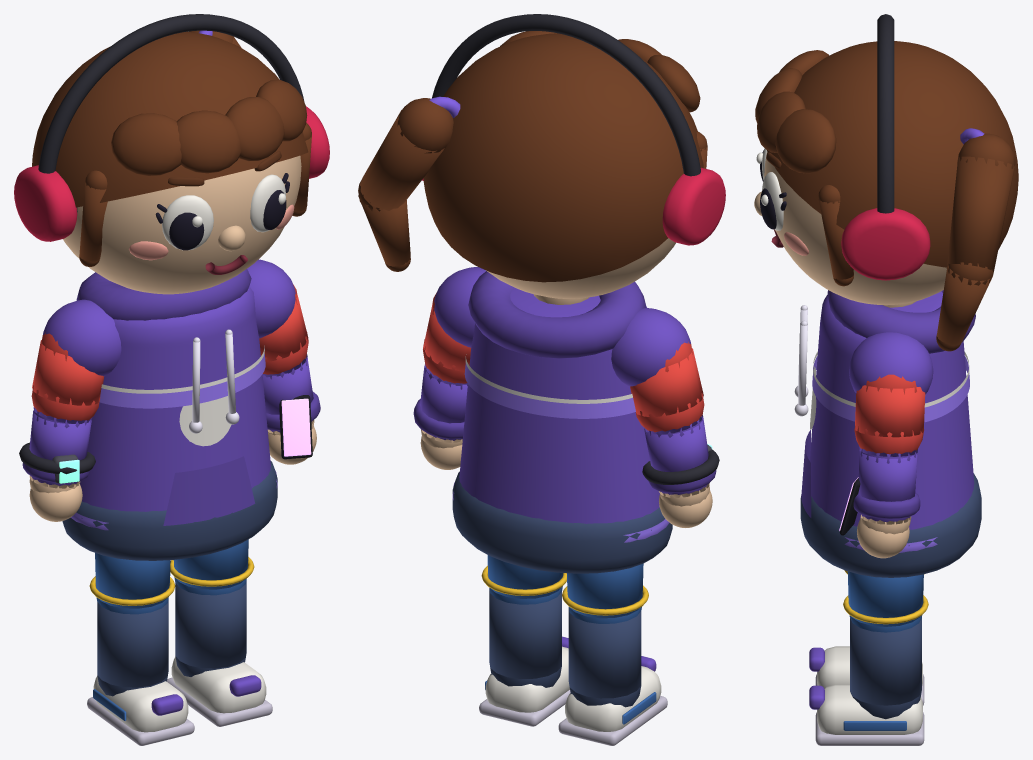
File: ch_hero_f.fbx
3 views of the same model, side by side, from view 1: azimuth 30°, elevation 25°; view 2: azimuth 150°, elevation 25°; view 3: azimuth 270°, elevation 25° (orthographic).
Visible parts, largest first — view 1: ch_hero_f__base, ch_hero_f__top_default, ch_hero_f__pants_default, ch_hero_f__acc_headphones, ch_hero_f__shoes_default, ch_hero_f__top_tshirt, ch_hero_f__pants_jeans, ch_hero_f__top_hoodie, ch_hero_f__acc_smartphone, ch_hero_f__acc_watch; view 2: ch_hero_f__base, ch_hero_f__top_default, ch_hero_f__pants_default, ch_hero_f__acc_headphones, ch_hero_f__top_tshirt, ch_hero_f__shoes_default, ch_hero_f__pants_jeans, ch_hero_f__top_hoodie, ch_hero_f__acc_watch; view 3: ch_hero_f__base, ch_hero_f__top_default, ch_hero_f__pants_default, ch_hero_f__acc_headphones, ch_hero_f__shoes_default, ch_hero_f__top_tshirt, ch_hero_f__pants_jeans, ch_hero_f__top_hoodie, ch_hero_f__shoes_sneakers, ch_hero_f__acc_smartphone.
Part boxes in pixels (x1,y1,x2,y2): ch_hero_f__base: [29, 30, 316, 521]; ch_hero_f__top_default: [22, 259, 320, 525]; ch_hero_f__pants_default: [62, 461, 277, 696]; ch_hero_f__acc_headphones: [14, 14, 329, 241]; ch_hero_f__shoes_default: [87, 657, 272, 745]; ch_hero_f__top_tshirt: [29, 284, 314, 493]; ch_hero_f__pants_jeans: [89, 539, 254, 614]; ch_hero_f__top_hoodie: [71, 345, 277, 530]; ch_hero_f__acc_smartphone: [279, 395, 312, 459]; ch_hero_f__acc_watch: [19, 442, 95, 483]; ch_hero_f__base: [358, 31, 712, 527]; ch_hero_f__top_default: [413, 267, 716, 523]; ch_hero_f__pants_default: [452, 471, 672, 707]; ch_hero_f__acc_headphones: [422, 14, 725, 245]; ch_hero_f__top_tshirt: [421, 292, 709, 506]; ch_hero_f__shoes_default: [479, 636, 667, 745]; ch_hero_f__pants_jeans: [481, 555, 648, 623]; ch_hero_f__top_hoodie: [452, 354, 669, 542]; ch_hero_f__acc_watch: [642, 444, 719, 484]; ch_hero_f__base: [754, 41, 1018, 558]; ch_hero_f__top_default: [794, 290, 975, 529]; ch_hero_f__pants_default: [800, 473, 981, 719]; ch_hero_f__acc_headphones: [841, 14, 930, 280]; ch_hero_f__shoes_default: [809, 646, 924, 745]; ch_hero_f__top_tshirt: [810, 366, 925, 534]; ch_hero_f__pants_jeans: [843, 570, 928, 632]; ch_hero_f__top_hoodie: [812, 351, 969, 552]; ch_hero_f__shoes_sneakers: [843, 721, 906, 730]; ch_hero_f__acc_smartphone: [839, 477, 860, 535].
Size of the model in its own units: 0.6653 by 1.43 by 0.4999.
